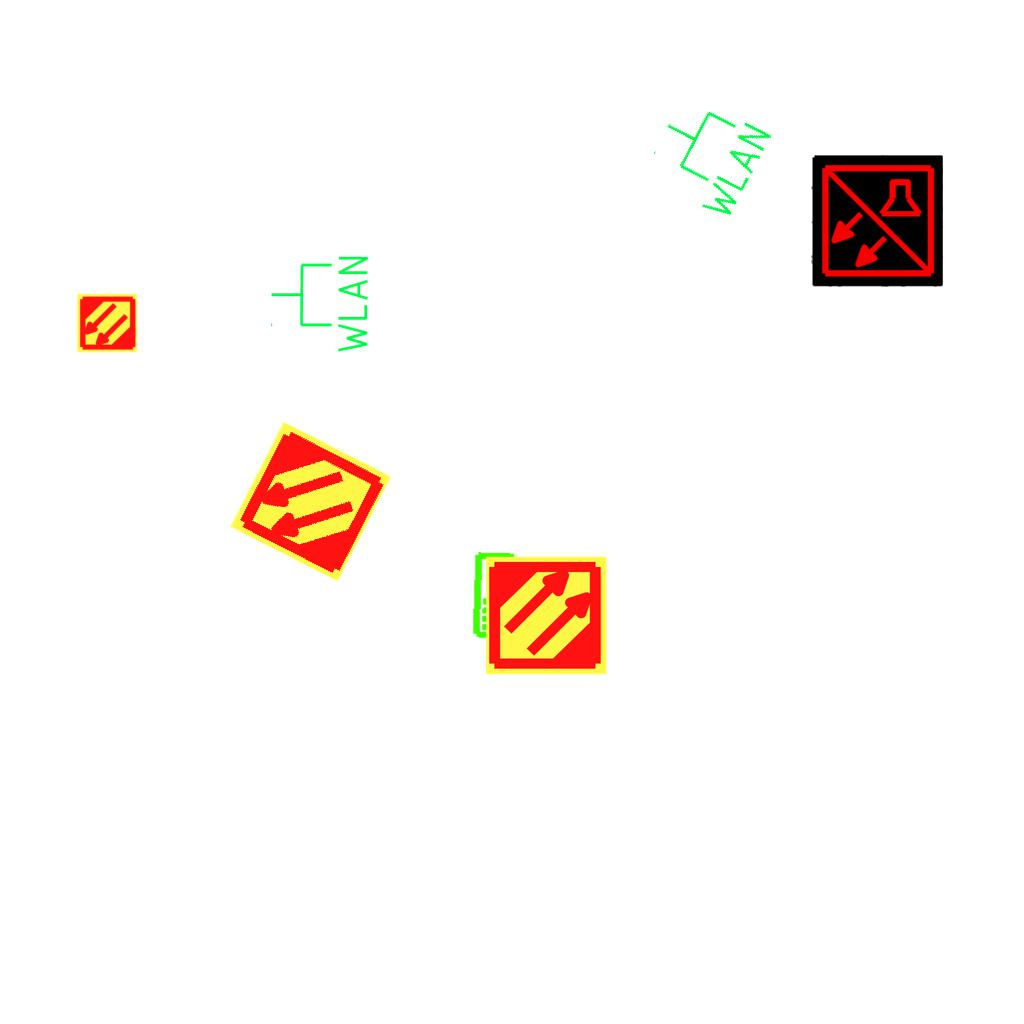ASR_Ansaugrauchmelder: (226, 417, 395, 586), (484, 553, 609, 678), (76, 292, 138, 354)
Gegensprechanlage_mit_Video: (469, 550, 520, 640)
OKW_Multisensormelder_(Kombination_optischer_Rauch-Kahlenmonoxid_Waerme-Melder): (811, 155, 943, 287)
WLAN: (636, 86, 778, 227), (268, 252, 372, 357)
